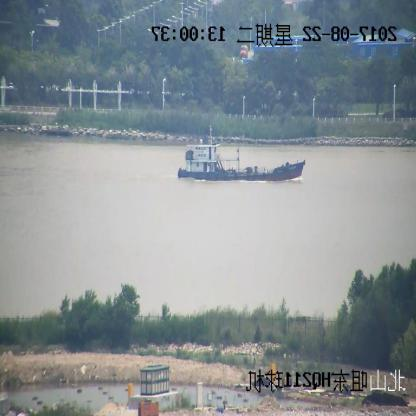Fishing Boat: (178, 127, 304, 182)
